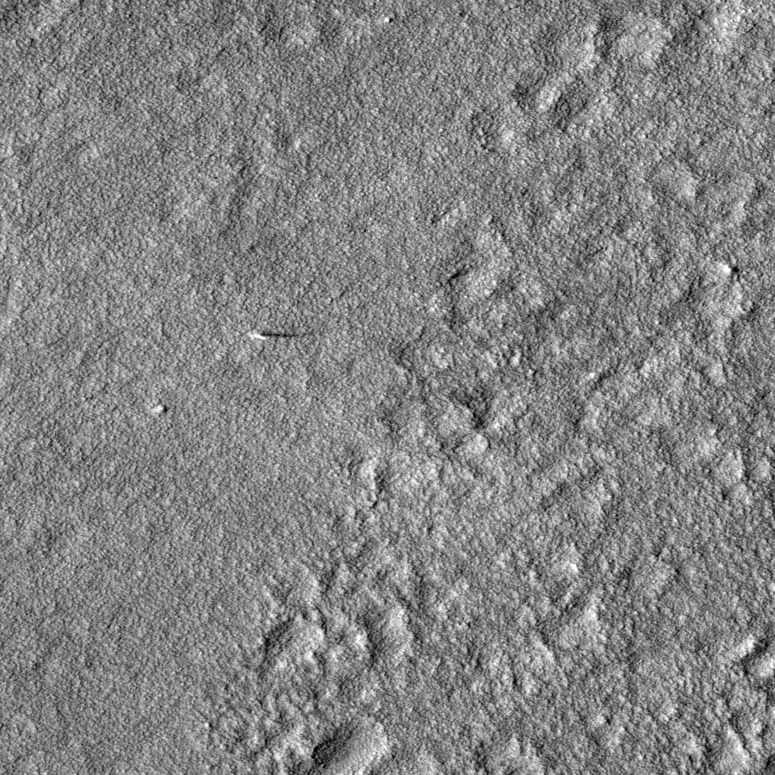dust_devil: (245, 328, 306, 342)
